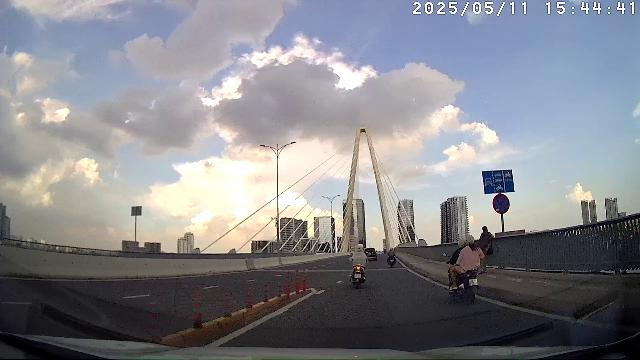130-cam-dung-va-do-xe: (492, 194, 510, 214)
